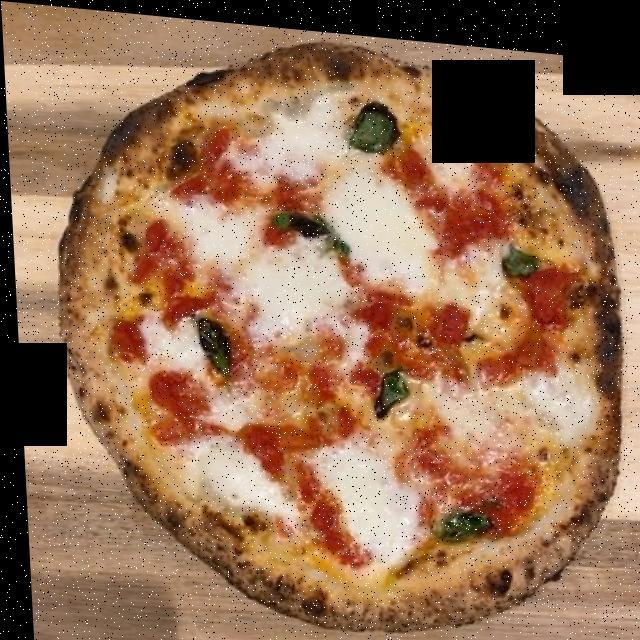pizza: (64, 42, 607, 604)
